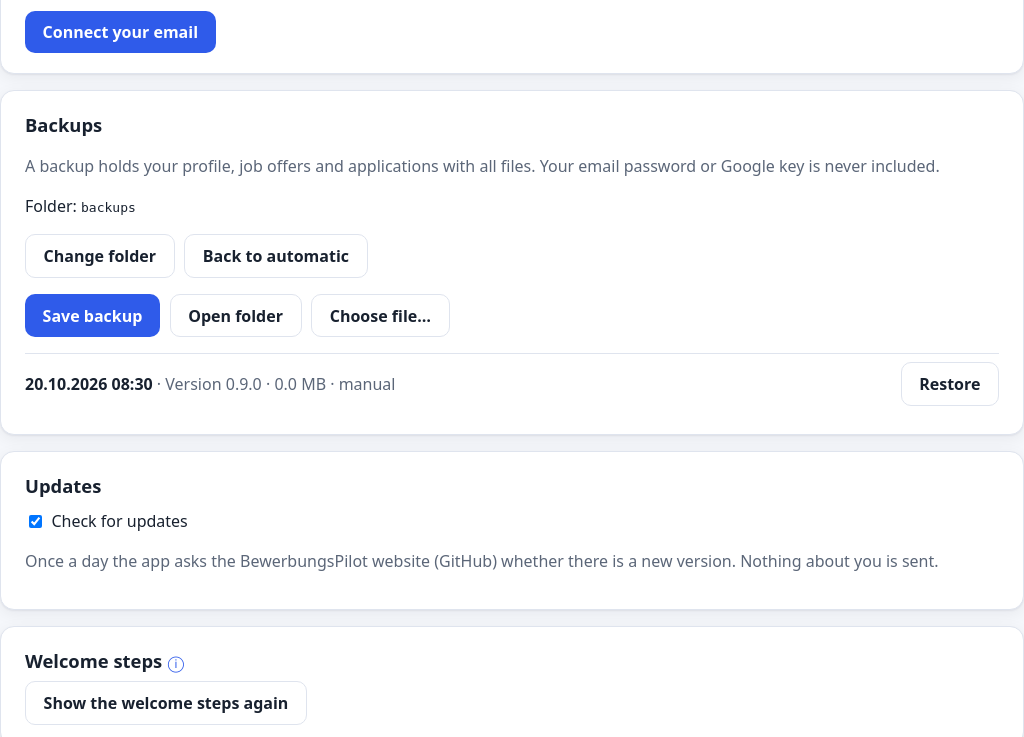
it: SettingsPage › after a restore shows the restored settings (language) without a page reload
This screenshot has width=1024, height=737.
(page scrolled)
Click the button "Restore".
click(950, 384)  # box [901,362,999,406]
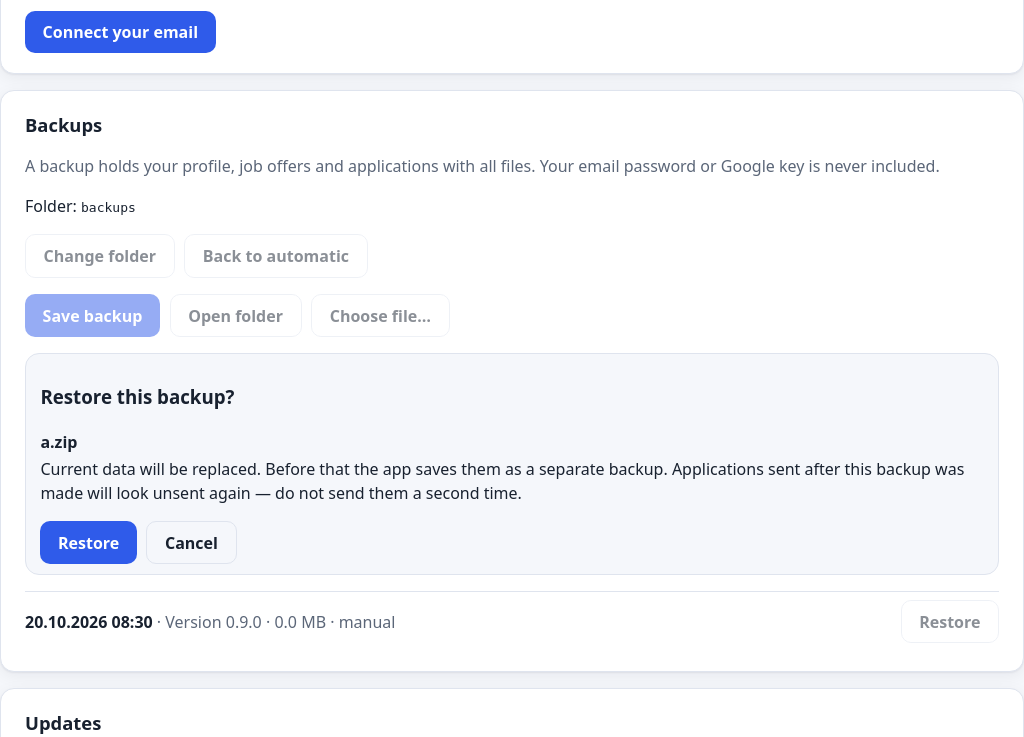
Click the button "Restore" below "a.zip".
click(89, 542)  # box [40,521,137,564]
(page scrolled)
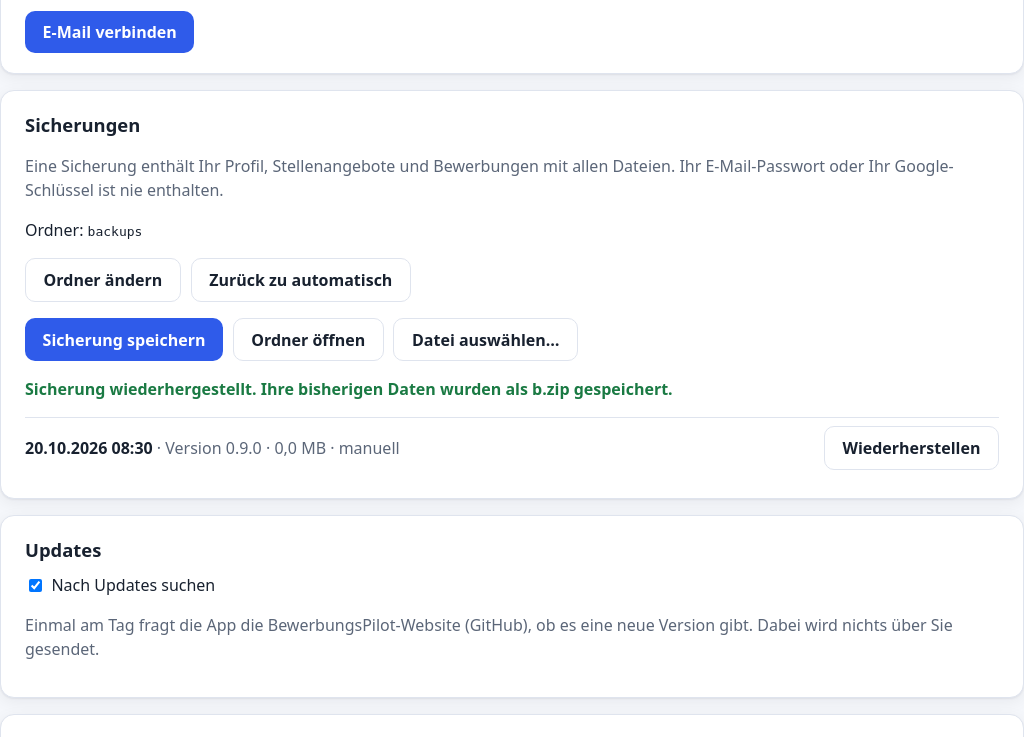
Expected: the text "b.zip" is shown, [25,378,673,400]
